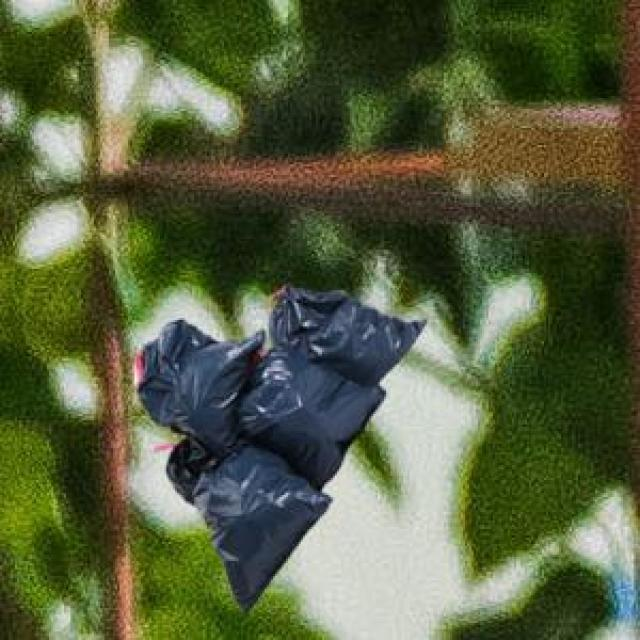miscellaneous trash: (128, 282, 422, 610)
